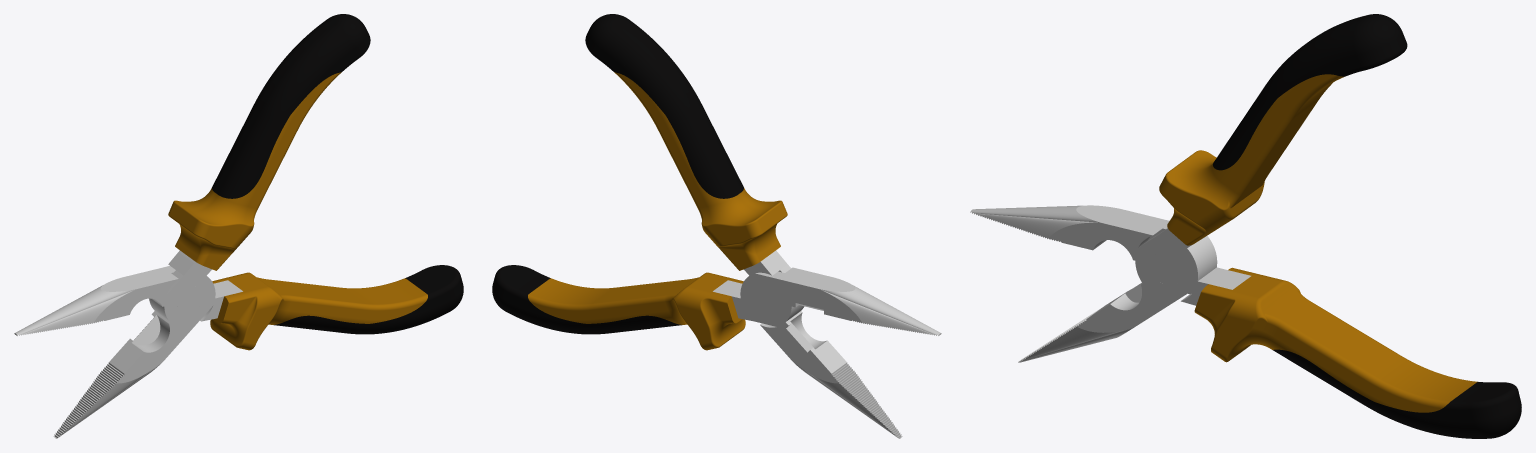
Rendered from Long Nose Pliers open 40 degrees.obj.
The picture shows the model from 3 angles, left to right: view 1: azimuth 30°, elevation 25°; view 2: azimuth 150°, elevation 25°; view 3: azimuth 330°, elevation 25°; orthographic projection. The views are drawn at different scales.
Parts seen in each view (by area): view 1: Long_Nose_Pliers_open_40_degrees; view 2: Long_Nose_Pliers_open_40_degrees; view 3: Long_Nose_Pliers_open_40_degrees.
Part boxes in pixels (<box>): Long_Nose_Pliers_open_40_degrees: <box>14,14,463,438</box>; Long_Nose_Pliers_open_40_degrees: <box>492,14,941,438</box>; Long_Nose_Pliers_open_40_degrees: <box>970,14,1521,438</box>.
Size of the model in its own units: 156 by 118 by 20.
